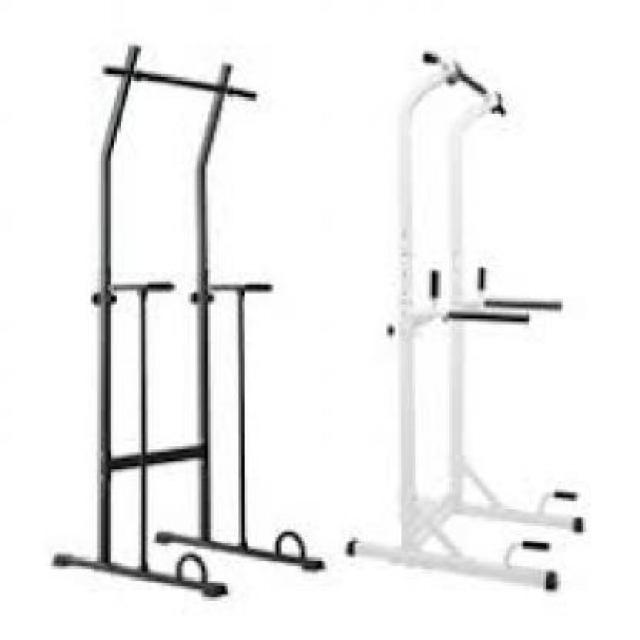chinning dipping: (52, 46, 326, 597), (344, 51, 588, 595)
